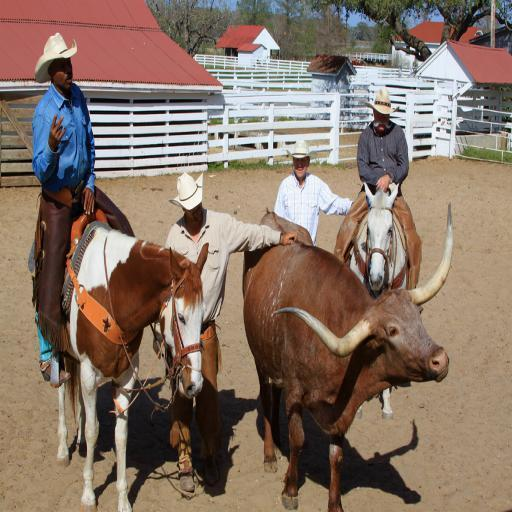horse: (54, 216, 209, 512), (350, 179, 408, 419)
